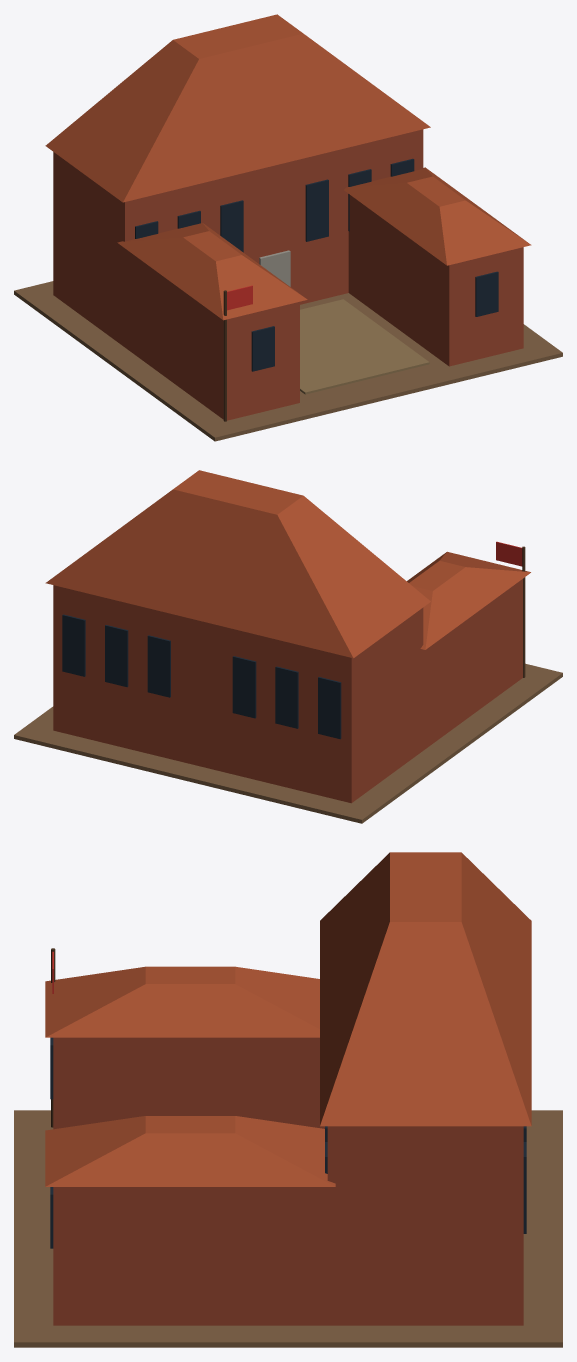
The model's file is bld_special_barracks_a04.glb.
3 views of the same model, one above another, from view 1: azimuth 30°, elevation 25°; view 2: azimuth 150°, elevation 25°; view 3: azimuth 270°, elevation 25° (orthographic). The views are drawn at different scales.
Visible parts, largest first — view 1: body; view 2: body; view 3: body.
Part boxes in pixels (x1,y1,x2,y2): body: (14, 14, 562, 441); body: (14, 470, 562, 823); body: (14, 852, 562, 1347).
Size of what is drawn, in the model's own units: 14 by 9.69 by 14.
